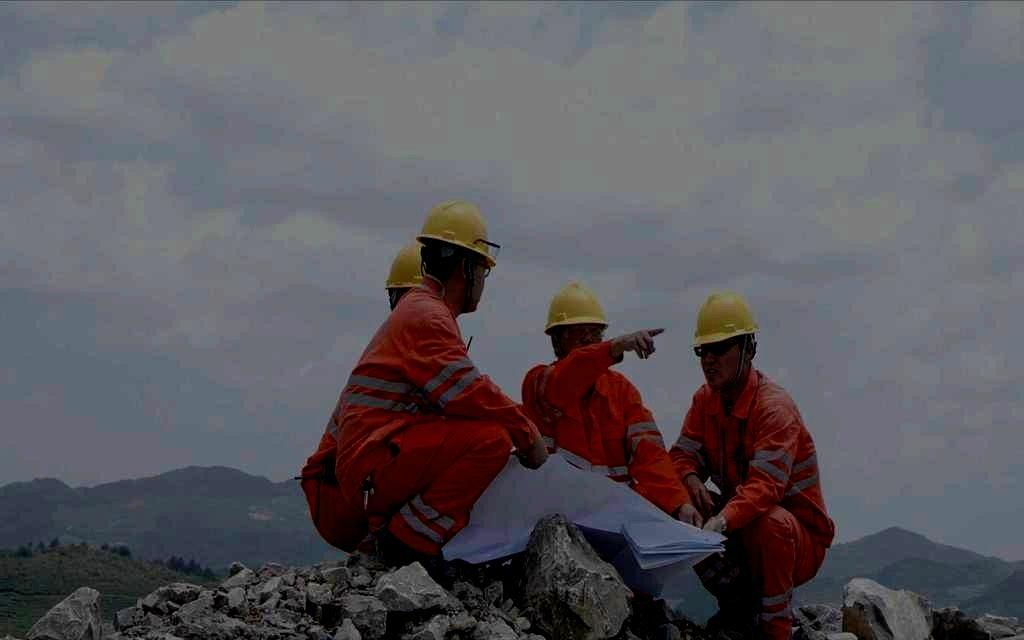helmet: (416, 199, 497, 312), (691, 291, 761, 392), (543, 282, 609, 362), (384, 242, 425, 310)
